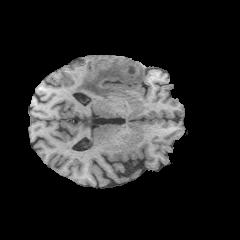glioma: (73, 56, 144, 100)
